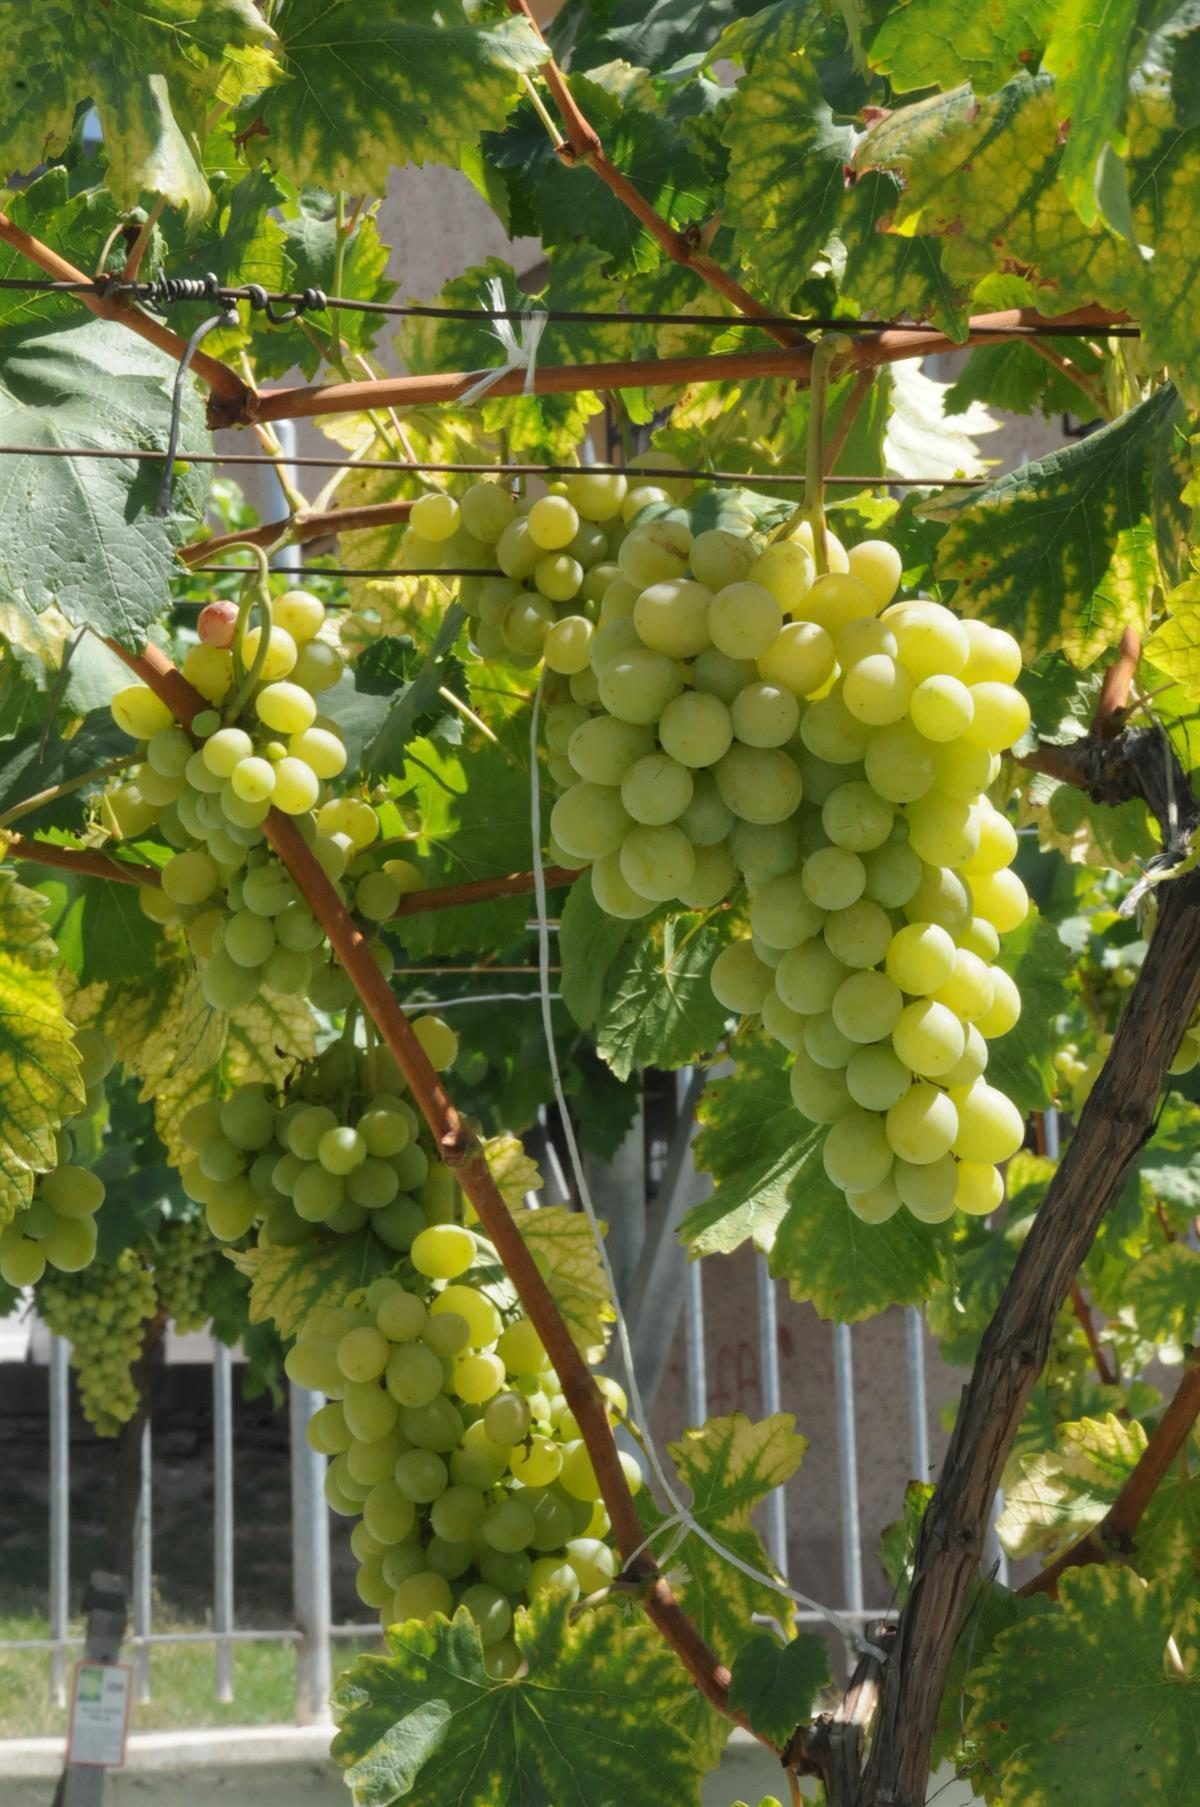Grape: (410, 435, 1029, 1228), (201, 1264, 639, 1645), (83, 555, 403, 1035), (155, 1022, 524, 1281)
